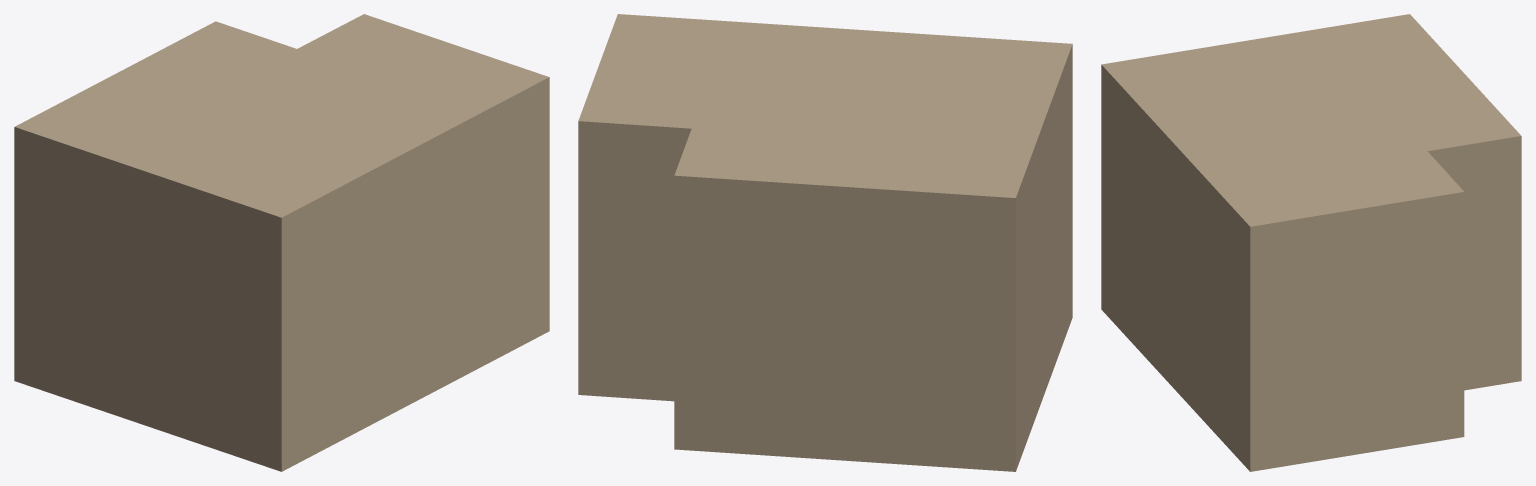
File: bld_106796780.dae
3 views of the same model, side by side, from view 1: azimuth 30°, elevation 25°; view 2: azimuth 150°, elevation 25°; view 3: azimuth 270°, elevation 25° (orthographic). The views are drawn at different scales.
Parts seen in each view (by area): view 1: bld_106796780; view 2: bld_106796780; view 3: bld_106796780.
Part boxes in pixels (x1,y1,x2,y2): bld_106796780: (14, 14, 549, 471); bld_106796780: (578, 14, 1072, 471); bld_106796780: (1101, 14, 1521, 471).
Bounding box in the file's own units: 14.9 × 12.43 × 8.
